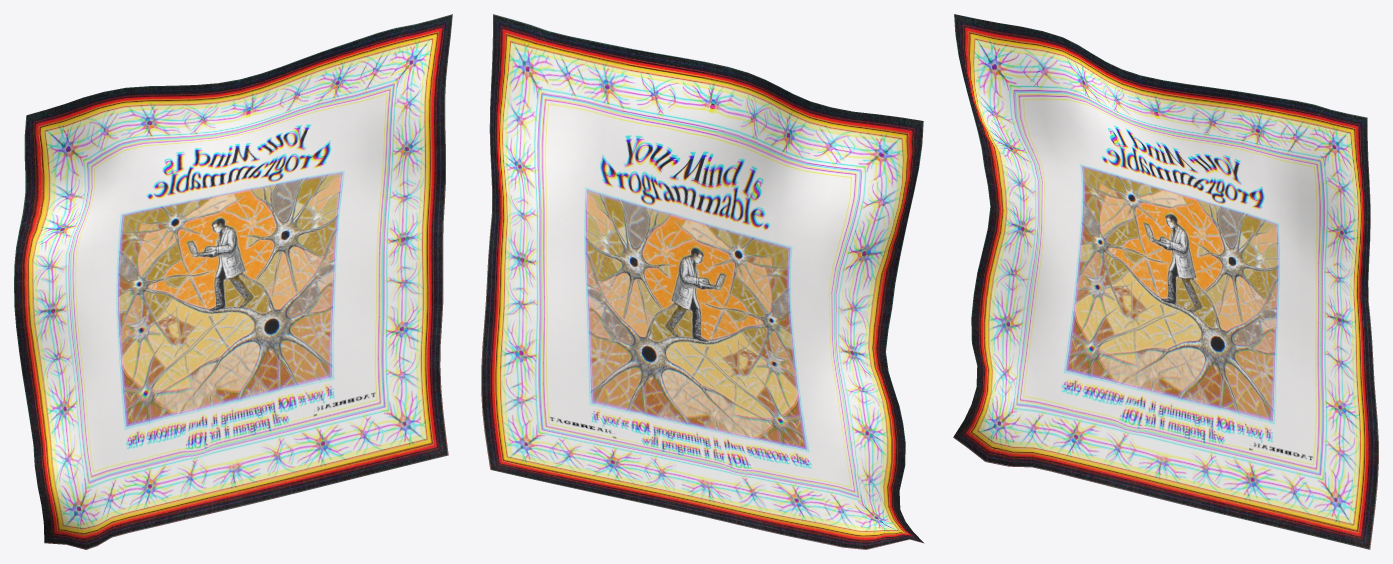
File: scarf1.glb
The picture shows the model from 3 angles, left to right: view 1: azimuth 30°, elevation 25°; view 2: azimuth 150°, elevation 25°; view 3: azimuth 330°, elevation 25°; orthographic projection. The views are drawn at different scales.
Parts seen in each view (by area): view 1: Plane; view 2: Plane; view 3: Plane.
Boxes of the visible parts, <box> form: Plane: <box>14,14,452,549</box>; Plane: <box>481,14,924,549</box>; Plane: <box>953,14,1378,549</box>.
Size of the model in its own units: 2 by 2 by 0.3134.
1 material, 1 textured.
